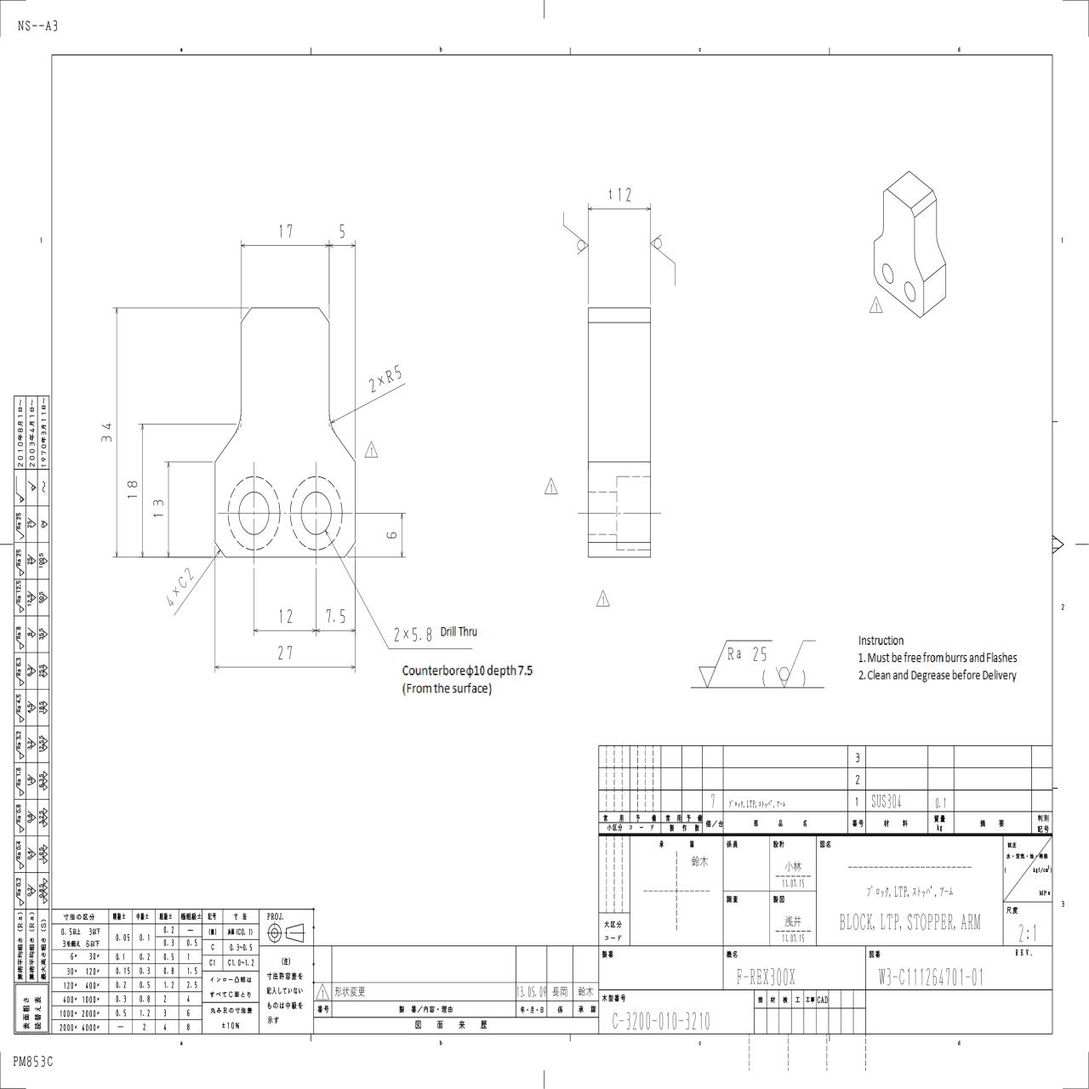basic_dimension: (412, 627, 433, 644), (326, 609, 346, 624), (278, 645, 293, 660), (101, 423, 112, 443), (127, 480, 138, 499), (279, 608, 292, 624), (153, 499, 164, 517), (279, 224, 292, 238), (386, 532, 397, 540), (339, 224, 344, 239)
dimension_chamfer_symbol: (177, 566, 195, 591)
dimension_chamfer_text: (184, 566, 195, 582)
dimension_radius_symbol: (384, 364, 403, 385)
dimension_radius_text: (393, 363, 403, 380)
dimension_thickness_symbol: (608, 186, 632, 202)
dimension_thickness_text: (618, 187, 631, 202)
revision_triangle_symbol: (544, 477, 558, 494), (596, 590, 610, 607), (364, 441, 378, 458), (869, 296, 883, 313)
surface_finish_symbol: (698, 640, 773, 690), (775, 640, 816, 688), (650, 234, 676, 286), (563, 212, 589, 255)
surface_finish_text: (753, 647, 767, 662)
